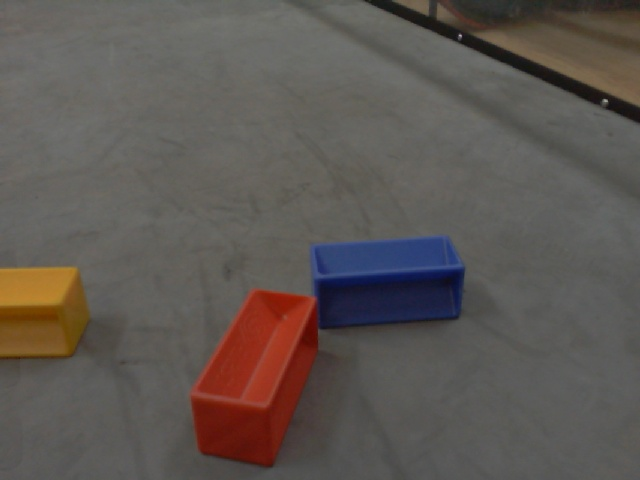BlueSample: (305, 230, 467, 328)
RedSample: (187, 286, 321, 469)
YellowSample: (1, 261, 92, 366)
